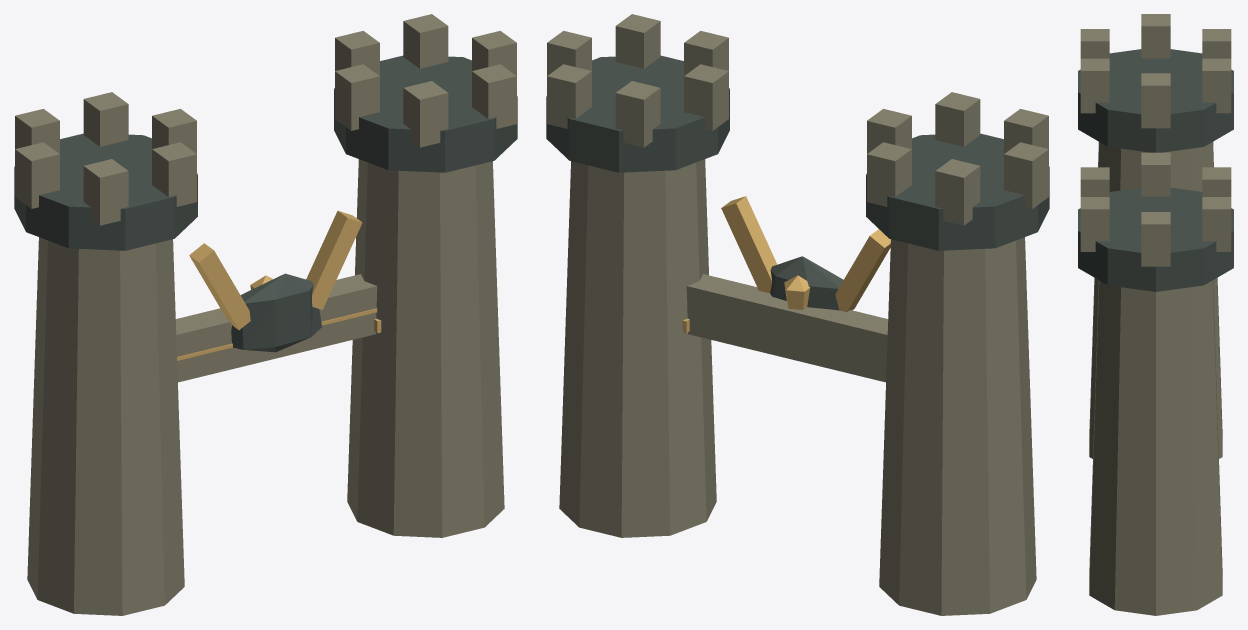
File: Landmark_IronLowlands.glb
3 renders of one model, left to right at view 1: azimuth 30°, elevation 25°; view 2: azimuth 150°, elevation 25°; view 3: azimuth 270°, elevation 25°, orthographic. The views are drawn at different scales.
Parts seen in each view (by area): view 1: Landmark_IronLowlands_IronLowlands_stone_0_5, Landmark_IronLowlands_IronLowlands_stone_-1_5, Landmark_IronLowlands_IronLowlands_dark_0_5, Landmark_IronLowlands_IronLowlands_dark_-1_5, Landmark_IronLowlands_IronLowlands_accent_0_5, Landmark_IronLowlands_IronLowlands_accent_-1_5; view 2: Landmark_IronLowlands_IronLowlands_stone_0_5, Landmark_IronLowlands_IronLowlands_stone_-1_5, Landmark_IronLowlands_IronLowlands_dark_0_5, Landmark_IronLowlands_IronLowlands_dark_-1_5, Landmark_IronLowlands_IronLowlands_accent_-1_5, Landmark_IronLowlands_IronLowlands_accent_0_5; view 3: Landmark_IronLowlands_IronLowlands_stone_0_5, Landmark_IronLowlands_IronLowlands_stone_-1_5, Landmark_IronLowlands_IronLowlands_dark_-1_5, Landmark_IronLowlands_IronLowlands_dark_0_5.
Boxes of the visible parts, x1,y1,x2,y2 form: Landmark_IronLowlands_IronLowlands_stone_0_5: [175, 14, 516, 537]; Landmark_IronLowlands_IronLowlands_stone_-1_5: [15, 92, 196, 615]; Landmark_IronLowlands_IronLowlands_dark_0_5: [231, 55, 517, 352]; Landmark_IronLowlands_IronLowlands_dark_-1_5: [14, 133, 197, 250]; Landmark_IronLowlands_IronLowlands_accent_0_5: [177, 211, 381, 360]; Landmark_IronLowlands_IronLowlands_accent_-1_5: [189, 243, 272, 329]; Landmark_IronLowlands_IronLowlands_stone_0_5: [547, 14, 888, 537]; Landmark_IronLowlands_IronLowlands_stone_-1_5: [867, 92, 1048, 615]; Landmark_IronLowlands_IronLowlands_dark_0_5: [546, 55, 843, 310]; Landmark_IronLowlands_IronLowlands_dark_-1_5: [866, 133, 1049, 250]; Landmark_IronLowlands_IronLowlands_accent_-1_5: [784, 229, 890, 312]; Landmark_IronLowlands_IronLowlands_accent_0_5: [682, 196, 777, 333]; Landmark_IronLowlands_IronLowlands_stone_0_5: [1080, 152, 1231, 615]; Landmark_IronLowlands_IronLowlands_stone_-1_5: [1080, 14, 1231, 458]; Landmark_IronLowlands_IronLowlands_dark_-1_5: [1078, 49, 1233, 152]; Landmark_IronLowlands_IronLowlands_dark_0_5: [1078, 187, 1233, 291].
Size of the model in its own units: 85 by 75 by 26.63.
